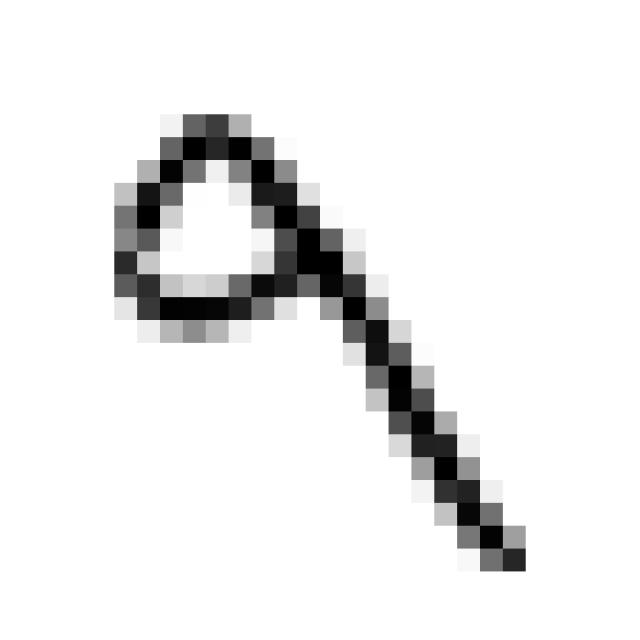9 -nine-: (85, 96, 549, 599)
